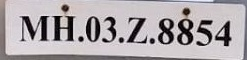character: (19, 14, 49, 41), (51, 14, 76, 42), (125, 16, 149, 43), (156, 17, 174, 45), (176, 17, 194, 45), (195, 19, 214, 45), (214, 19, 232, 46), (85, 15, 101, 42), (101, 16, 117, 43)
